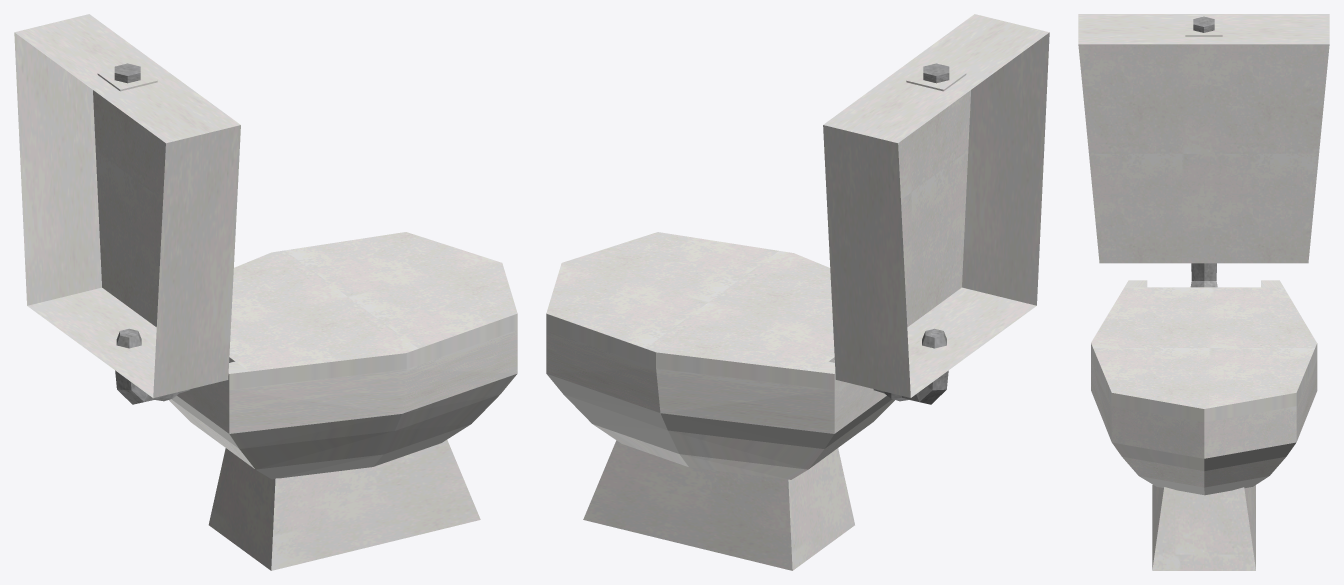
File: Inodoro.fbx
3 views of the same model, side by side, from view 1: azimuth 30°, elevation 25°; view 2: azimuth 150°, elevation 25°; view 3: azimuth 270°, elevation 25° (orthographic). The views are drawn at different scales.
Parts seen in each view (by area): view 1: Inodoro_toilet; view 2: Inodoro_toilet; view 3: Inodoro_toilet.
Part boxes in pixels (x1,y1,x2,y2): Inodoro_toilet: [14, 14, 517, 570]; Inodoro_toilet: [546, 14, 1049, 570]; Inodoro_toilet: [1078, 14, 1329, 570].
Bounding box in the file's own units: 2.97 × 3.48 × 1.89.
